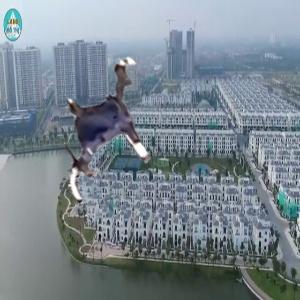drone: (30, 54, 180, 204)
